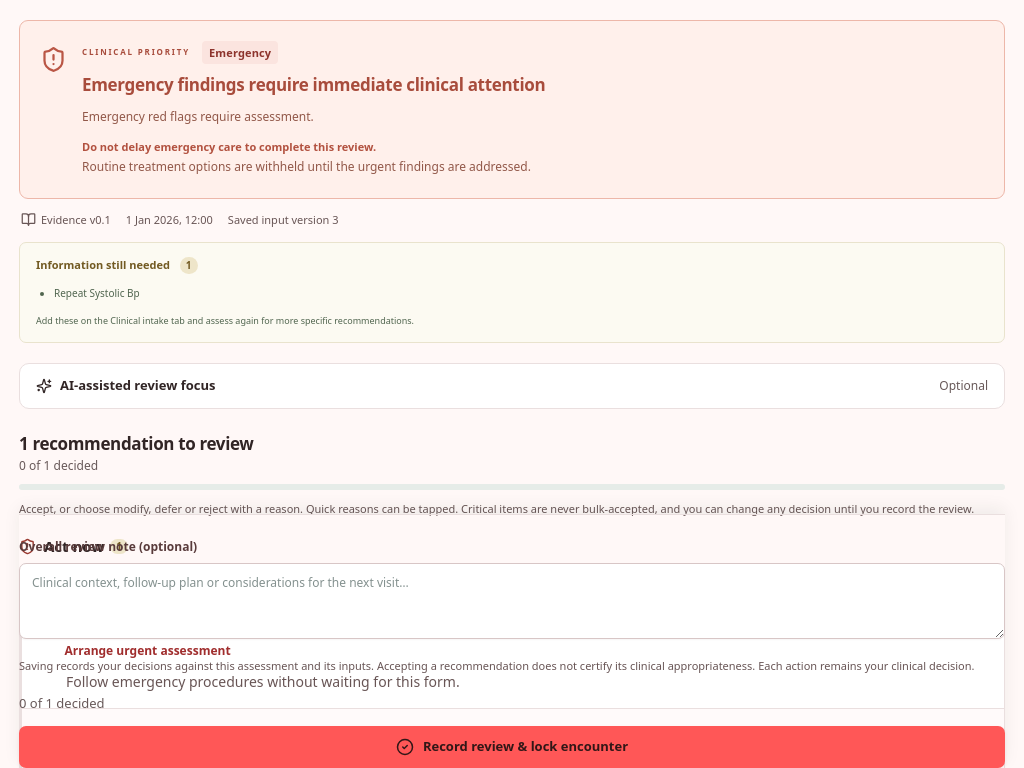
Clinician workflow safeguards › does not preselect acceptance and blocks incomplete review
Expected: the text "Do not delay emergency care to complete this review." is shown, [82,140,376,154]
Click the button "Record review & lock encounter": (512, 747) [19,726,1005,767]
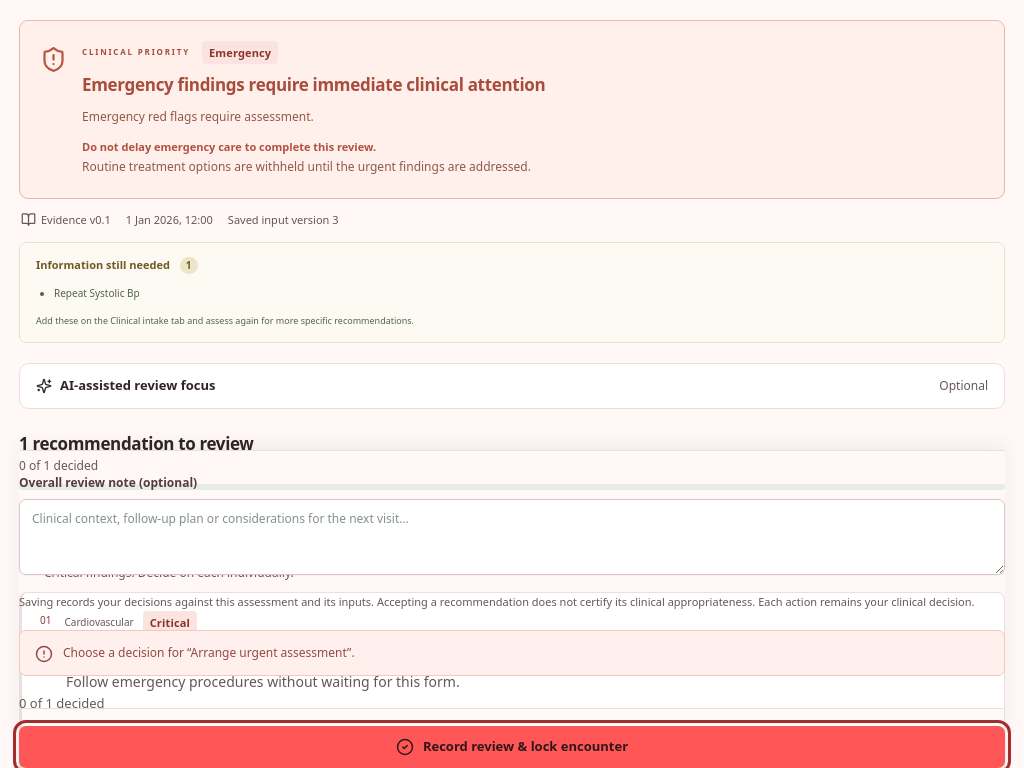
Result: the message shows "Choose a decision" at [63,644,355,662]
